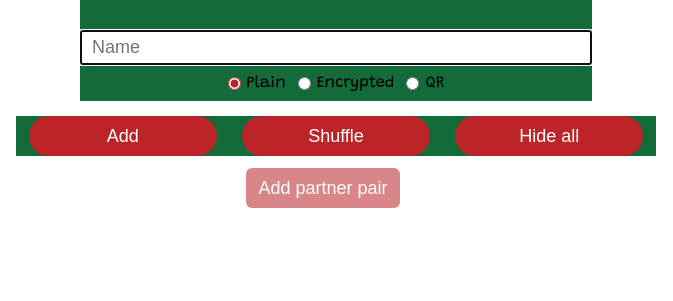
Test case: Generator UI › adds participant names trimmed/lowercased
The width and height of the screenshot is (673, 301).
Type " Alex " into the field with placeholder "Name". click: (336, 48)
box: [80,30,592,65]
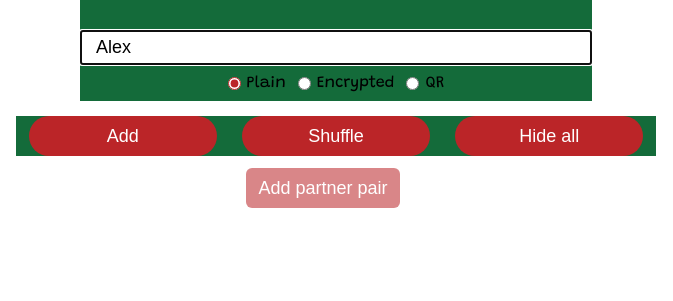
Click the button "Add". click: (123, 136)
box: [29,116,216,156]
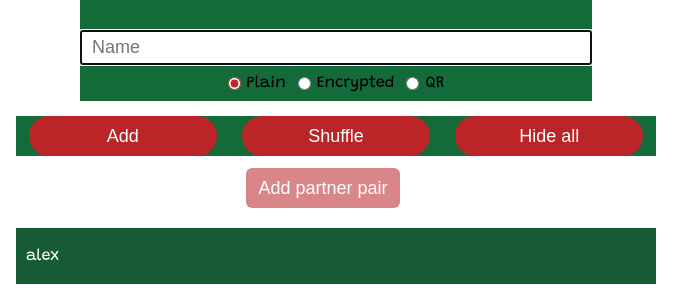
Expected: the text "alex" is shown, [26,248,60,264]
